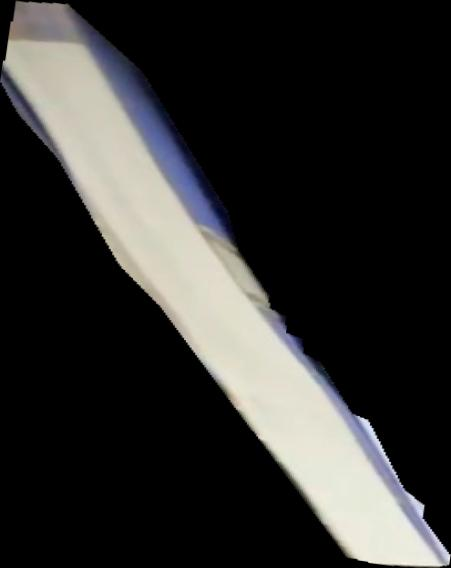backward: (1, 1, 451, 568)
